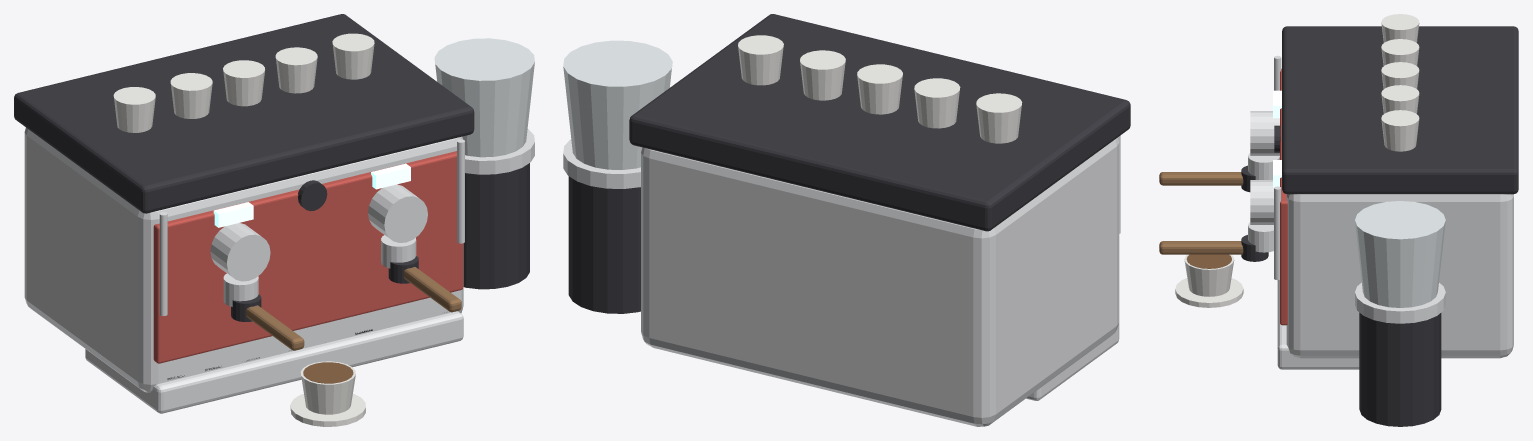
File: espresso.glb
3 views of the same model, side by side, from view 1: azimuth 30°, elevation 25°; view 2: azimuth 150°, elevation 25°; view 3: azimuth 270°, elevation 25° (orthographic). The views are drawn at different scales.
Parts seen in each view (by area): view 1: Cube.001, Cube, Cube.002, Cone, Cone.005, Cube.012, Cube.013, Cylinder.012; view 2: Cube, Cube.001, Cone.005, Cone; view 3: Cube.001, Cube, Cone.005, Cone, Cube.012, Cube.002, Cylinder.012, Cube.013.
Boxes of the visible parts, bbox=[...] form: Cube.001: bbox=[14, 14, 529, 379]; Cube: bbox=[24, 127, 534, 413]; Cube.002: bbox=[153, 151, 463, 363]; Cone: bbox=[113, 33, 374, 426]; Cone.005: bbox=[434, 38, 534, 157]; Cube.012: bbox=[246, 267, 461, 350]; Cube.013: bbox=[213, 163, 410, 227]; Cylinder.012: bbox=[303, 362, 353, 383]; Cube: bbox=[563, 135, 1120, 426]; Cube.001: bbox=[568, 14, 1130, 313]; Cone.005: bbox=[563, 40, 672, 169]; Cone: bbox=[738, 35, 1022, 143]; Cube.001: bbox=[1241, 26, 1518, 426]; Cube: bbox=[1248, 55, 1513, 369]; Cone.005: bbox=[1355, 201, 1445, 307]; Cone: bbox=[1175, 14, 1419, 307]; Cube.012: bbox=[1159, 172, 1243, 254]; Cube.002: bbox=[1280, 68, 1287, 325]; Cylinder.012: bbox=[1186, 254, 1231, 268]; Cube.013: bbox=[1273, 90, 1281, 187].
Bounding box in the file's own units: 1.03 × 0.5675 × 0.79.
